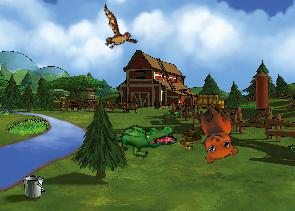bear: (182, 98, 245, 168)
crocodile: (110, 109, 179, 168)
eagle: (87, 4, 145, 59)
